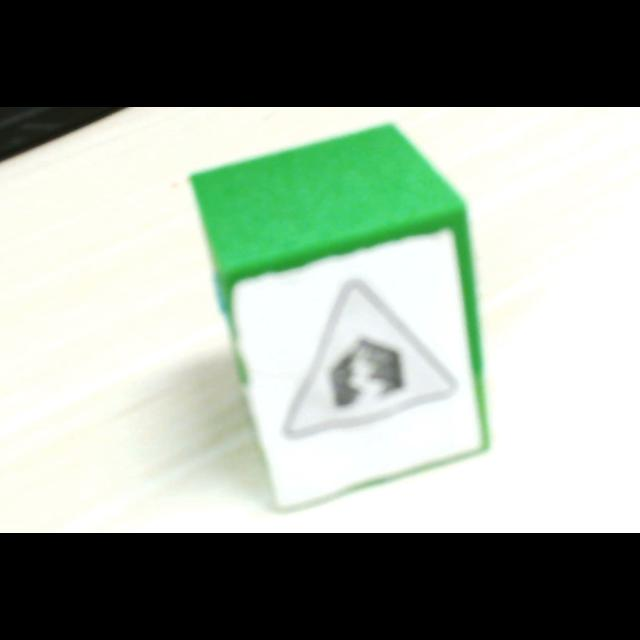Earthquake: (284, 280, 457, 438)
